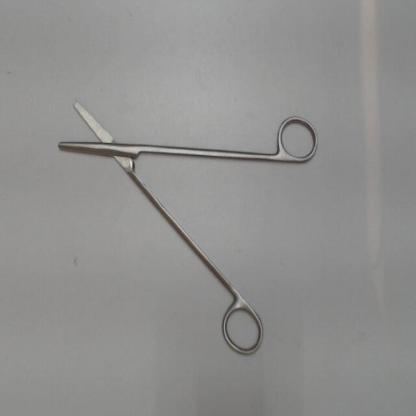9 Metzenbaum Scissors: (54, 96, 322, 365)
